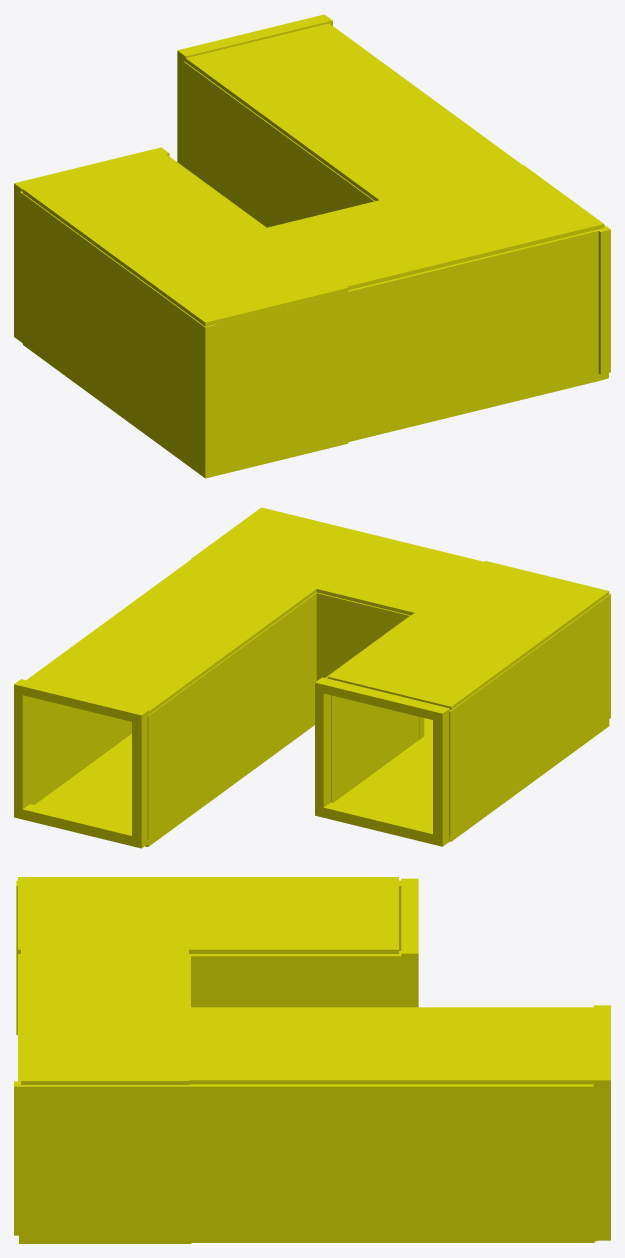
The model's file is Vent3.fbx.
3 renders of one model, top to bottom at view 1: azimuth 30°, elevation 25°; view 2: azimuth 150°, elevation 25°; view 3: azimuth 270°, elevation 25°, orthographic. The views are drawn at different scales.
Parts seen in each view (by area): view 1: polySurface225; view 2: polySurface225; view 3: polySurface225.
Part boxes in pixels (<box>): polySurface225: <box>14,14,610,478</box>; polySurface225: <box>14,507,610,848</box>; polySurface225: <box>14,877,610,1243</box>.
Size of the model in its own units: 277 by 103 by 338.
